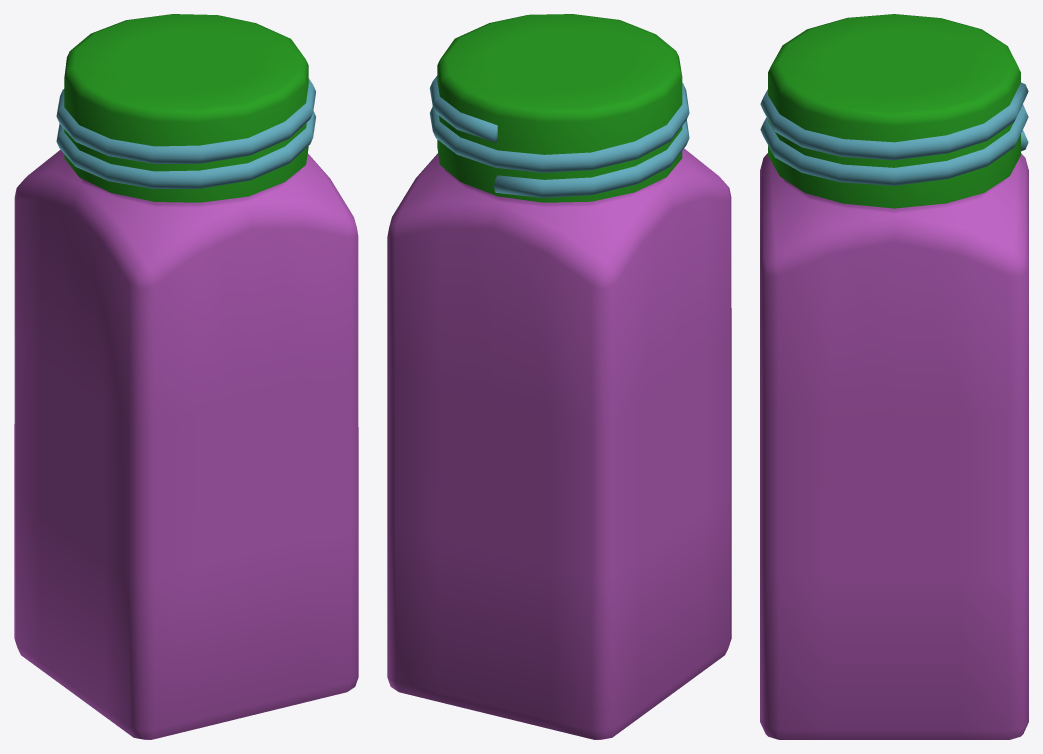
File: Glass Bottle 01.fbx
3 renders of one model, left to right at view 1: azimuth 30°, elevation 25°; view 2: azimuth 150°, elevation 25°; view 3: azimuth 270°, elevation 25°, orthographic. The views are drawn at different scales.
Parts seen in each view (by area): view 1: Glass_Bottle_01; view 2: Glass_Bottle_01; view 3: Glass_Bottle_01.
Part boxes in pixels (left/top/right/bottom): Glass_Bottle_01: left=14, top=14, right=358, bottom=739; Glass_Bottle_01: left=387, top=14, right=731, bottom=739; Glass_Bottle_01: left=760, top=14, right=1028, bottom=739.
Bounding box in the file's own units: 11.56 × 29.74 × 11.56.
